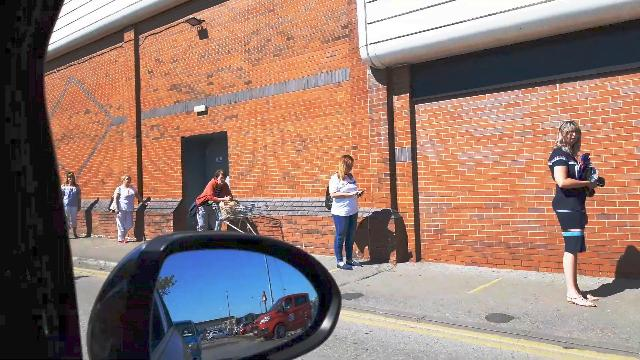berdiri: (552, 118, 608, 310), (326, 152, 364, 276)
